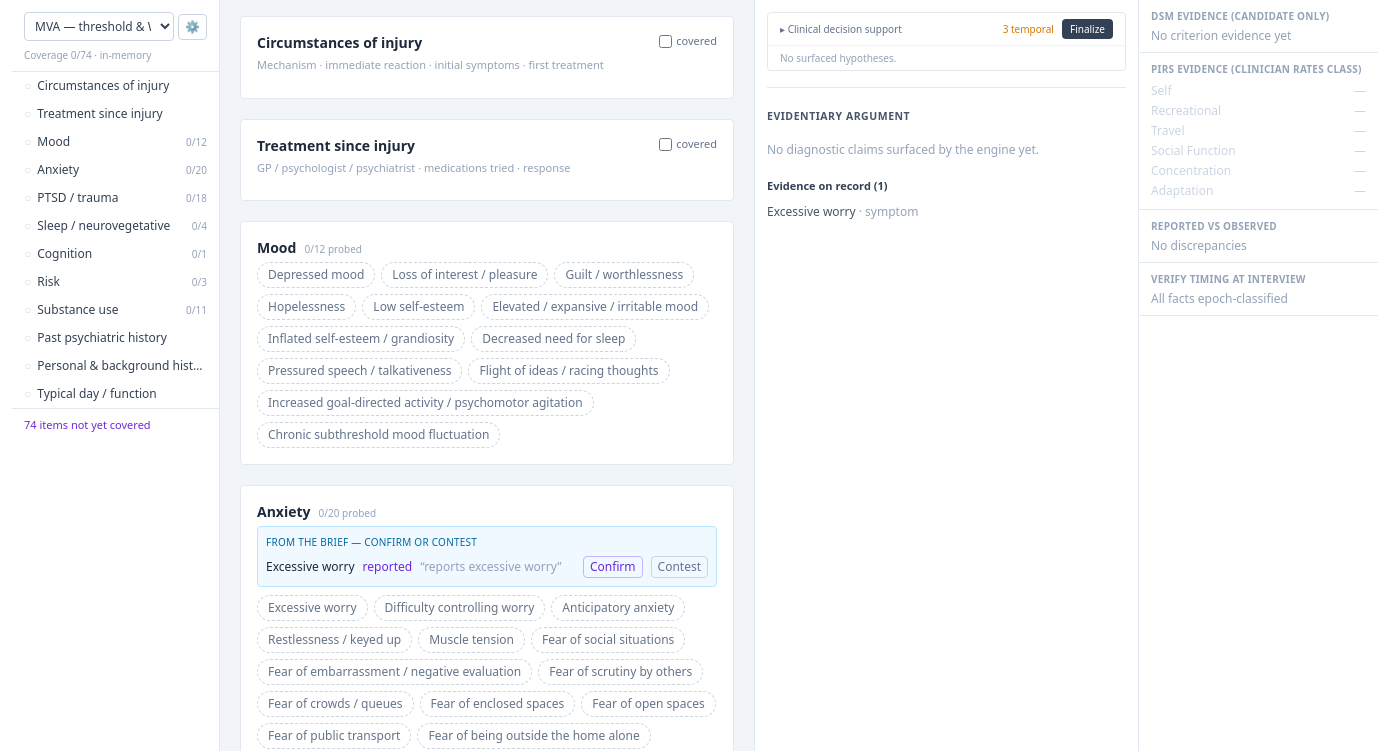
Test: LiveAssessmentPage — template-driven interview canvas › contesting a candidate dismisses it without asserting anything
Click the button "Contest" at (679,567), box [650,556,708,578]
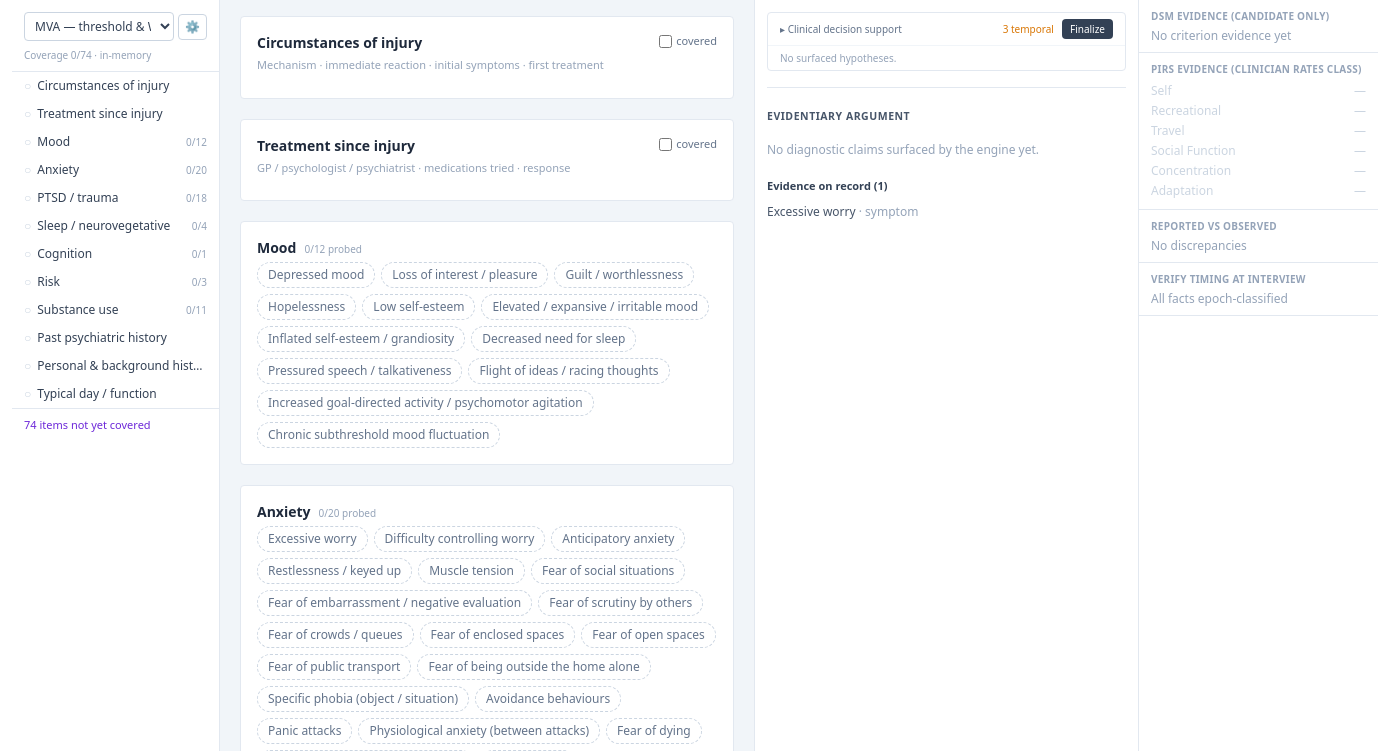
expect the element with test id "brief-sx-anxiety" is gone: met
